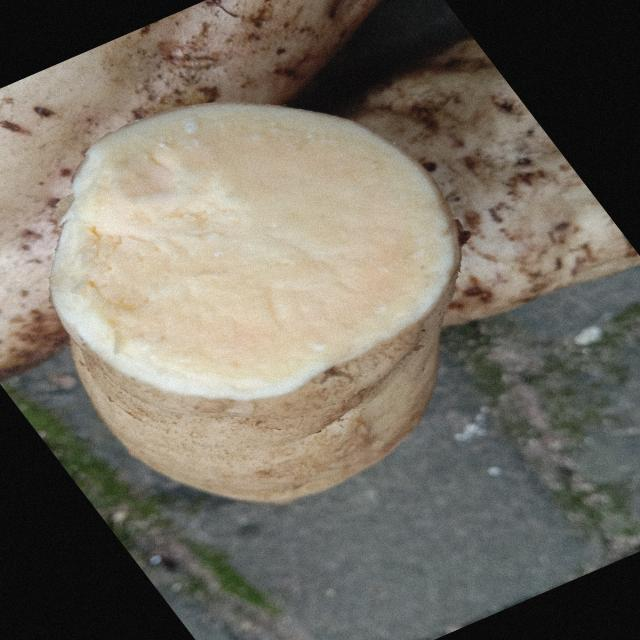Healthy Sweet Potato: (50, 104, 458, 399)
